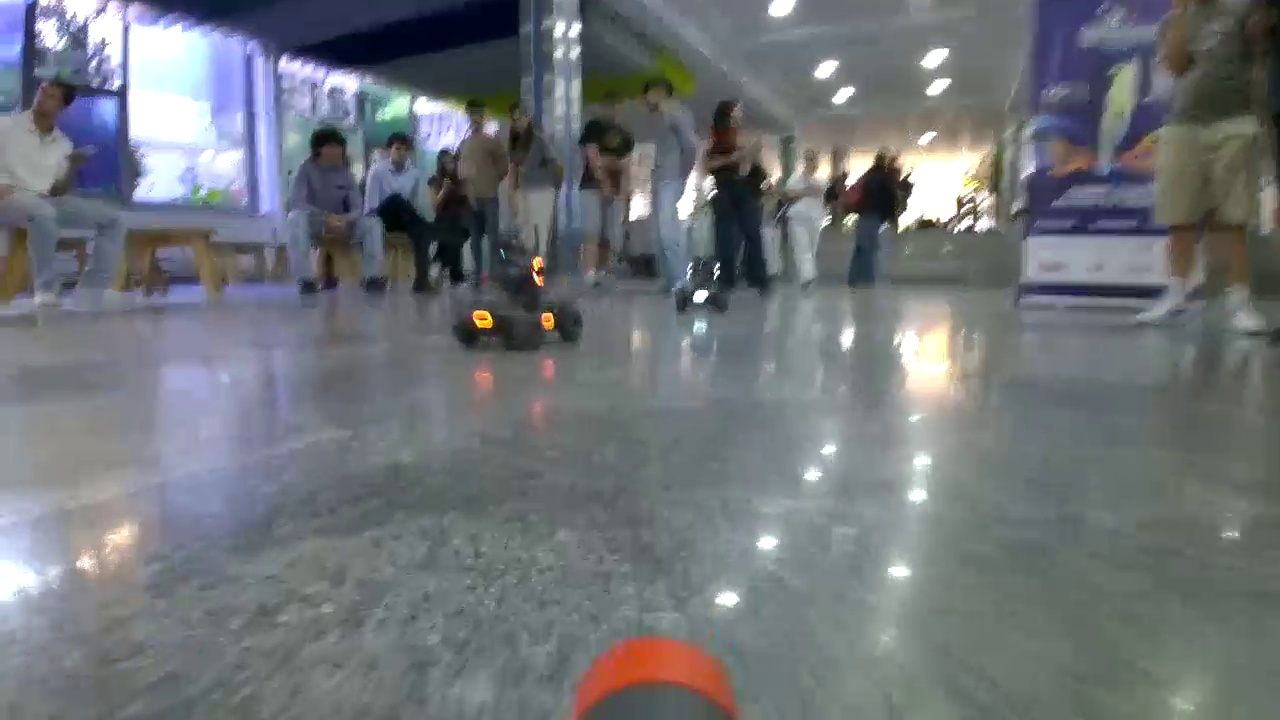robot: (452, 270, 582, 348), (672, 270, 740, 330)
